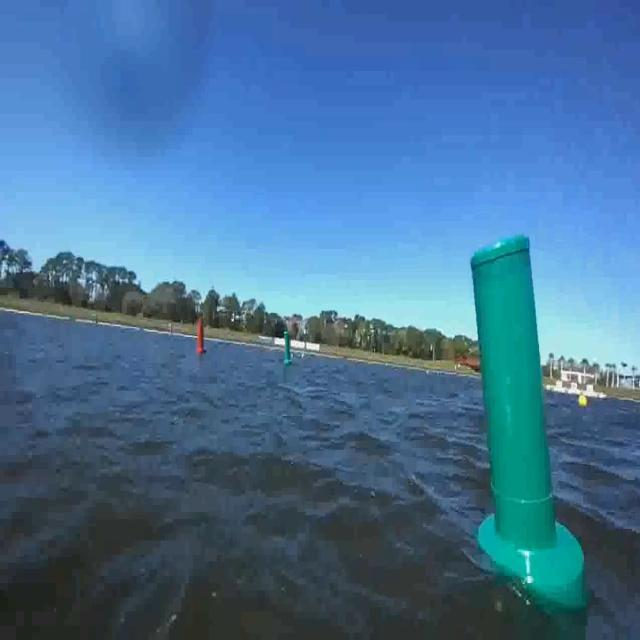green-column-buoy: (460, 244, 590, 611), (281, 328, 296, 373)
red-column-buoy: (196, 306, 207, 356)
